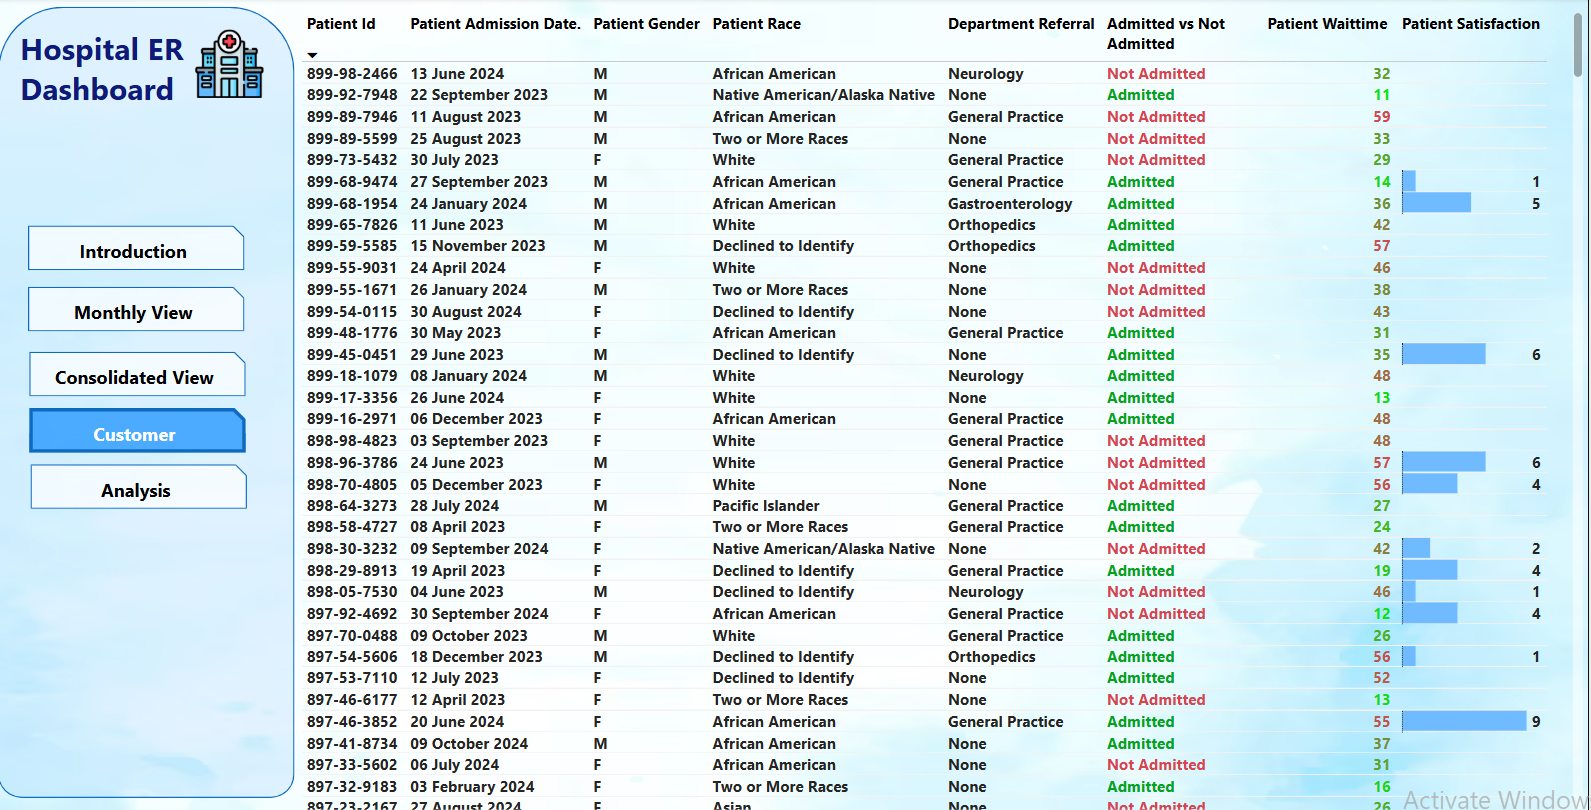

This screenshot's page, from the dashboard's own definition file:
{"tool":"powerbi","page":{"name":"Customer","canvas":[1400,720],"ordinal":4},"visuals":[{"type":"shape","box":[0,7.9,260.9,696.1],"z":0},{"type":"textbox","box":[14.4,21,234.6,99.6],"z":1000},{"type":"image","box":[158.6,23.6,90.4,69.5],"z":2000},{"type":"shape","box":[26.2,200.6,190.1,39.3],"z":3000},{"type":"shape","box":[26.2,254.3,190.1,39.3],"z":4000},{"type":"shape","box":[27.5,310.7,190.1,39.3],"z":5000},{"type":"shape","box":[27.5,360.5,190.1,39.3],"z":6000},{"type":"shape","box":[28.8,410.3,190.1,39.3],"z":7000},{"type":"tableEx","fields":{"Values":["Hospital ER_Hospital ER.Patient Id","Hospital ER_Hospital ER.Patient Admission Date.","Hospital ER_Hospital ER.Patient Gender","Hospital ER_Hospital ER.Patient Race","Hospital ER_Hospital ER.Department Referral","Hospital ER_Hospital ER.Admitted vs Not Admitted","Sum(Hospital ER_Hospital ER.Patient Waittime)","Sum(Hospital ER_Hospital ER.Patient Satisfaction Score)"]},"box":[261.1,7.9,1138.9,711.2],"z":8000}]}

Visuals, with their boxes in screenshot pixels (x1, y1, x2, y2), scaled from the page's 1400x720 canvas onto the 1591x810 screenshot:
shape: 0:9:296:792
textbox: 16:24:283:136
image: 180:27:283:105
shape: 30:226:246:270
shape: 30:286:246:330
shape: 31:350:247:394
shape: 31:406:247:450
shape: 33:462:249:506
tableEx - Hospital ER_Hospital ER.Patient Id x Hospital ER_Hospital ER.Patient Admission Date.: 297:9:1590:809
